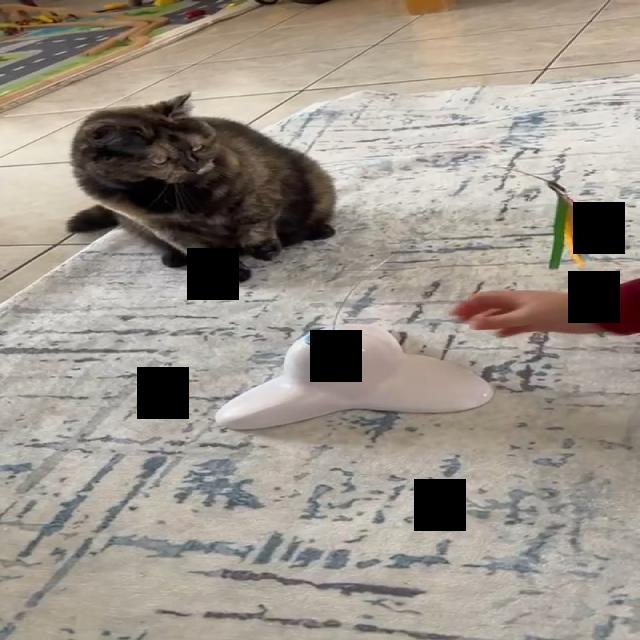authorized: (65, 92, 338, 286)
